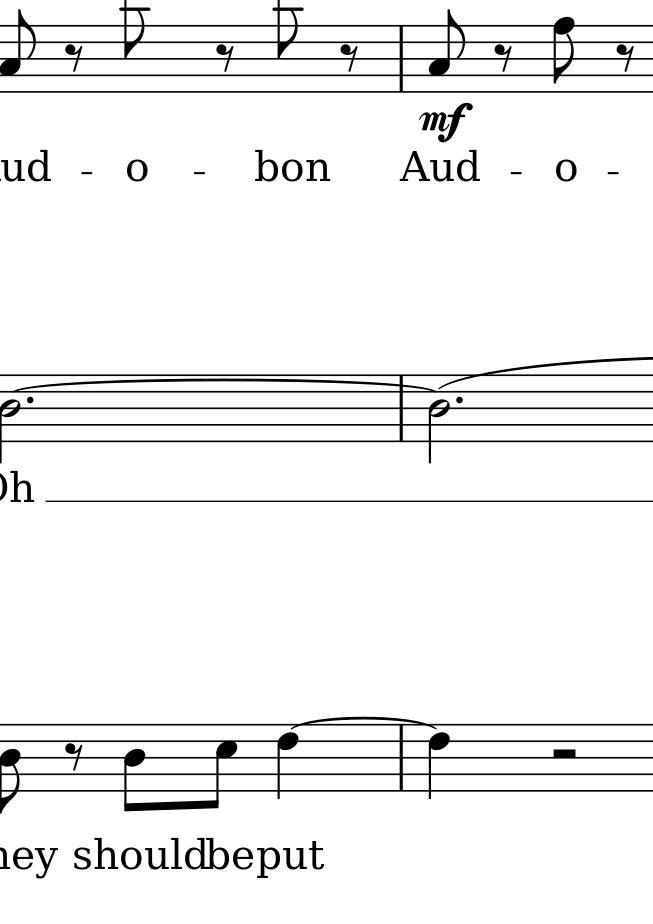2_4: (425, 372, 450, 466)
4_6: (274, 721, 302, 802), (425, 720, 453, 800)
8_3: (427, 5, 468, 93), (1, 5, 41, 94)
8_4: (123, 723, 148, 814)
8_5: (206, 721, 241, 810)
8_8: (550, 15, 579, 94)
Rests2: (549, 744, 585, 769)
Rests8: (491, 43, 519, 74), (63, 39, 87, 75), (62, 740, 88, 773), (336, 42, 361, 75), (613, 41, 636, 75), (213, 41, 238, 72)
Single_barline: (391, 21, 408, 94), (389, 724, 407, 792), (392, 373, 407, 443)
Slur: (18, 380, 437, 392), (289, 715, 439, 732)
dot: (450, 392, 470, 409), (23, 394, 35, 407), (453, 394, 464, 408)
mf: (420, 102, 476, 144)
